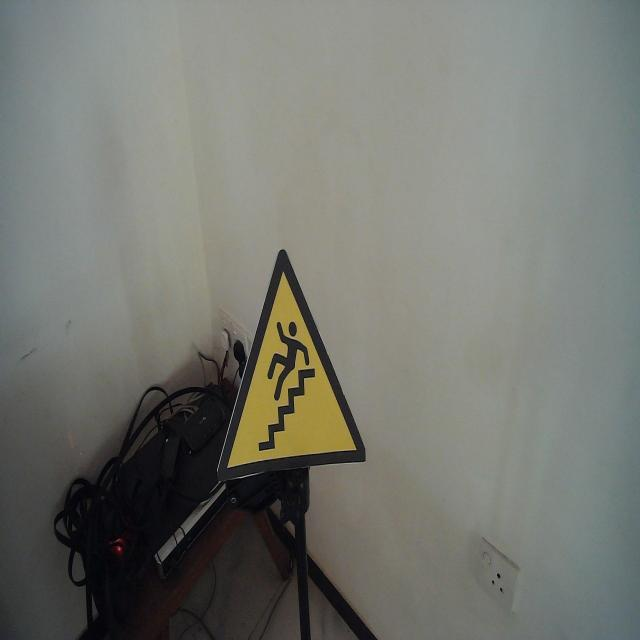stairs: (215, 247, 368, 486)
